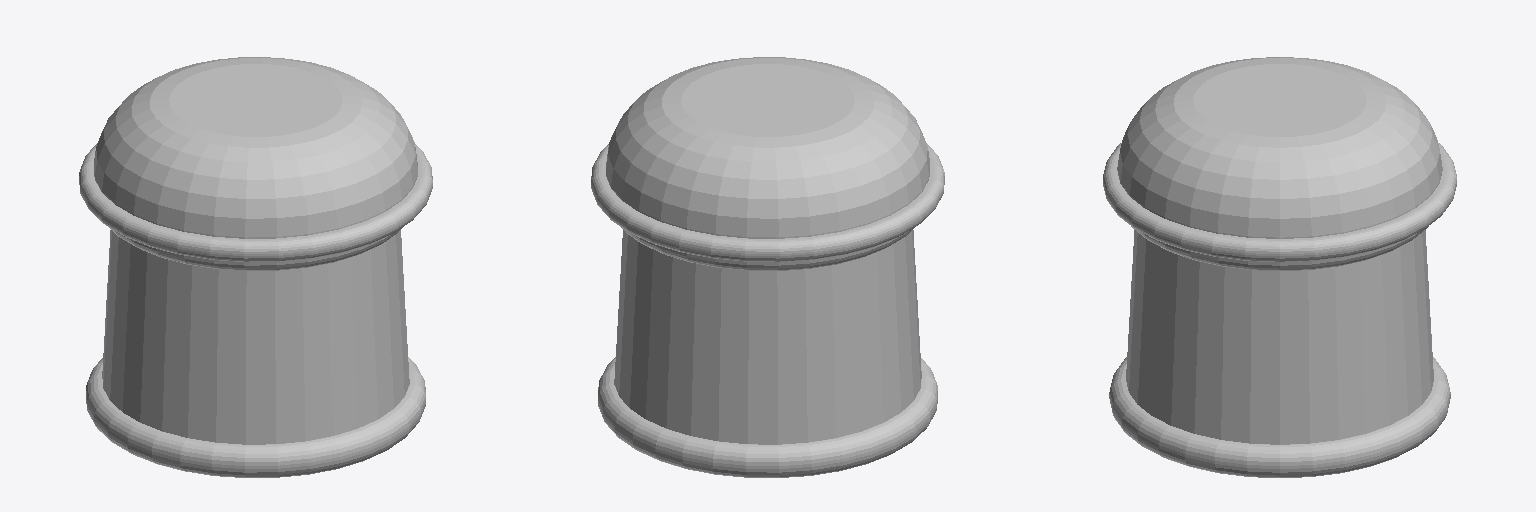
File: SetA_Container_Style_19.obj
The picture shows the model from 3 angles: view 1: azimuth 30°, elevation 25°; view 2: azimuth 150°, elevation 25°; view 3: azimuth 270°, elevation 25°; orthographic projection.
Parts seen in each view (by area): view 1: SetA_Container_Style_19; view 2: SetA_Container_Style_19; view 3: SetA_Container_Style_19.
Boxes of the visible parts, <box> form: SetA_Container_Style_19: <box>79,57,432,477</box>; SetA_Container_Style_19: <box>591,57,944,477</box>; SetA_Container_Style_19: <box>1103,57,1456,477</box>.
Size of the model in its own units: 0.193 by 0.1866 by 0.193.